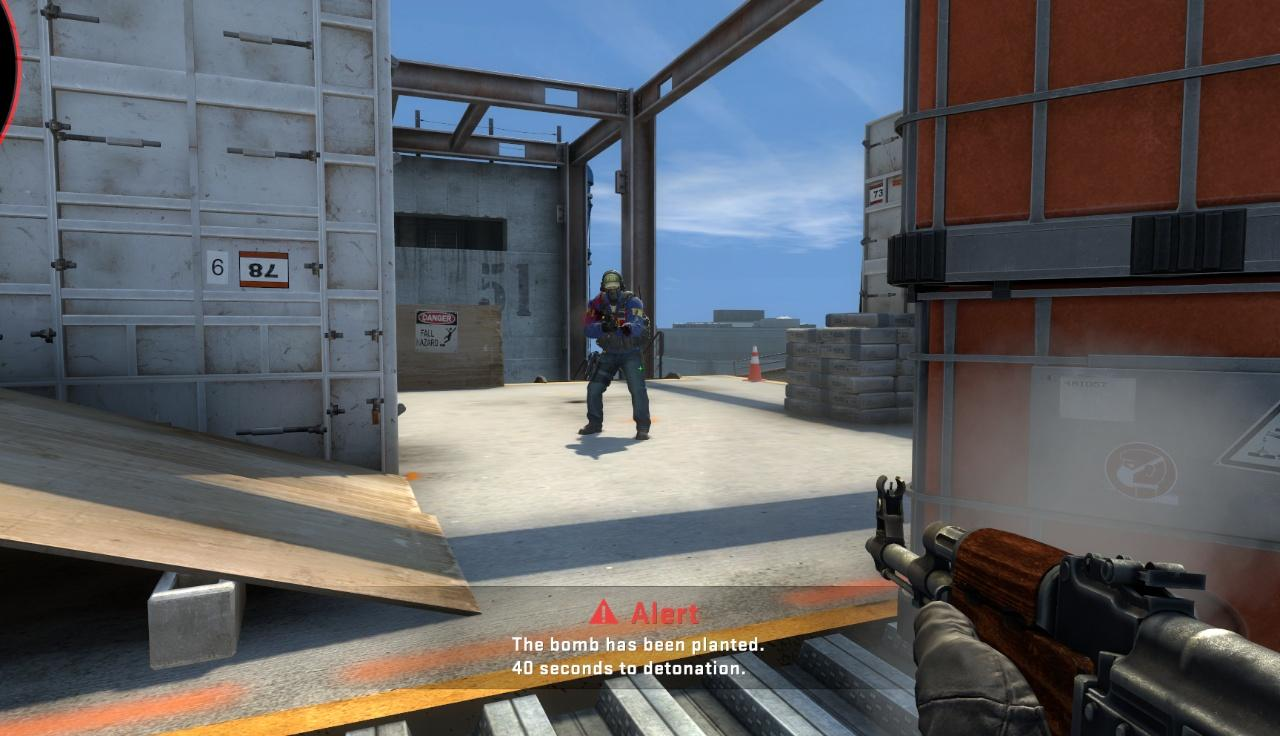ct: (585, 269, 649, 432)
cthead: (601, 270, 622, 299)
rifle: (864, 471, 1280, 736)
